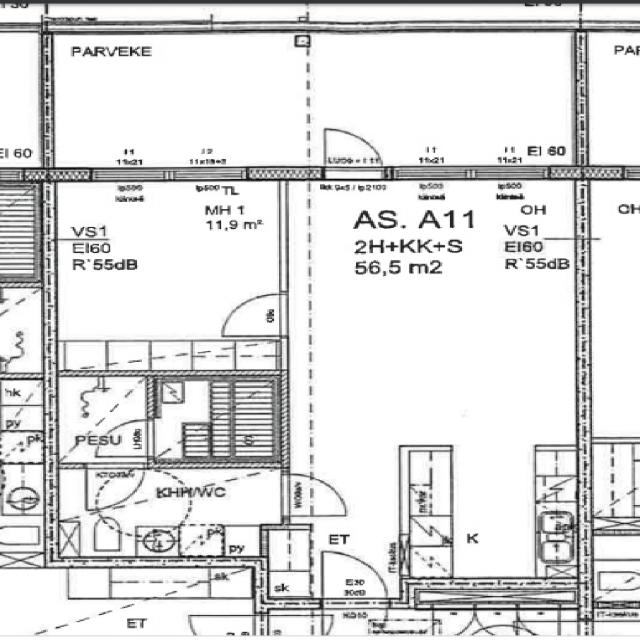door: (324, 552, 387, 608), (325, 127, 383, 180), (282, 474, 347, 516), (224, 294, 290, 335), (87, 463, 144, 510), (96, 419, 154, 456)
